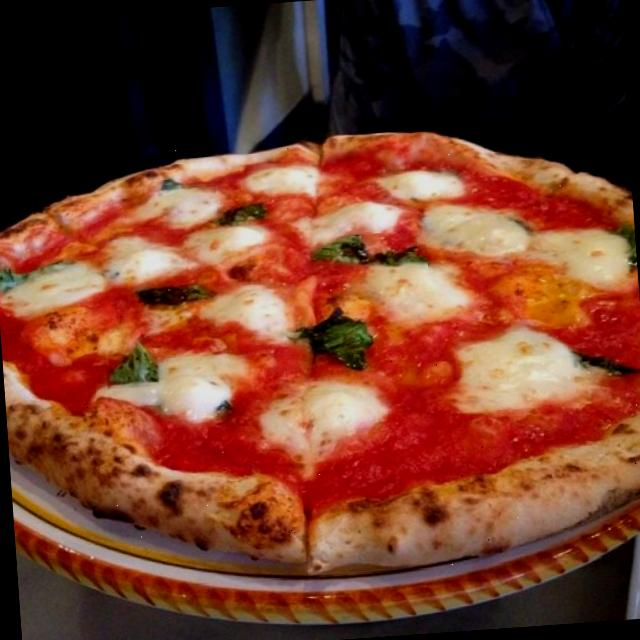basil: (314, 230, 428, 282), (300, 306, 376, 376), (130, 274, 214, 320), (578, 343, 640, 388), (104, 339, 159, 389), (218, 194, 274, 232)
cheese: (252, 374, 391, 466), (454, 324, 592, 412), (94, 354, 232, 423), (529, 218, 638, 299), (418, 194, 531, 270), (367, 258, 482, 328), (205, 280, 302, 352), (0, 264, 106, 322), (288, 195, 398, 248), (98, 230, 186, 292), (374, 161, 474, 212), (122, 184, 218, 228), (185, 219, 264, 271), (239, 162, 323, 202)
pizza: (0, 133, 640, 577)
